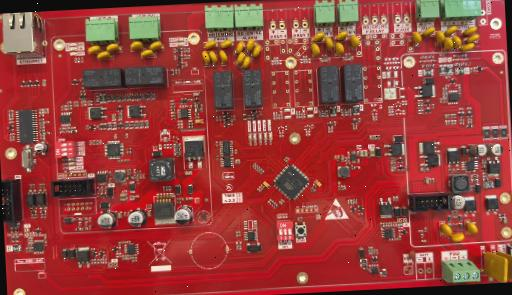var: (480, 249, 508, 283), (496, 248, 512, 282), (441, 221, 453, 241), (458, 42, 476, 52), (442, 36, 454, 51), (434, 30, 446, 44), (452, 232, 466, 244), (96, 50, 112, 60), (462, 26, 478, 36), (466, 221, 478, 234), (130, 40, 144, 51), (421, 26, 436, 36), (443, 26, 458, 36), (140, 49, 156, 58), (220, 38, 233, 49), (251, 44, 262, 57), (235, 40, 246, 53), (150, 41, 164, 51), (312, 32, 326, 42), (236, 51, 246, 65), (412, 30, 422, 44), (452, 35, 462, 49), (350, 34, 360, 47), (334, 42, 344, 55), (241, 55, 251, 68), (464, 34, 480, 42), (88, 45, 102, 54), (106, 43, 120, 52), (204, 40, 218, 49), (335, 31, 349, 40), (311, 42, 320, 56), (246, 38, 255, 52), (209, 50, 218, 64), (219, 50, 228, 64), (202, 51, 211, 64), (325, 36, 334, 49)
